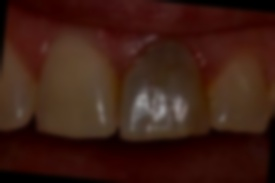Tooth Discoloration: (115, 32, 218, 151)
